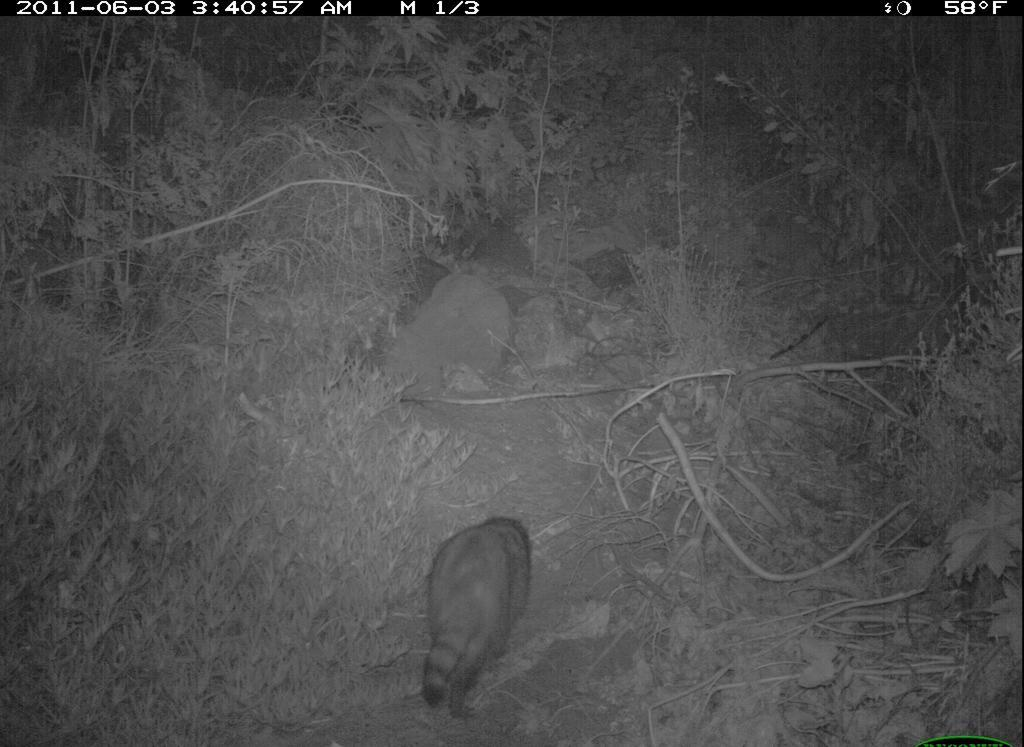raccoon: (414, 513, 537, 726)
